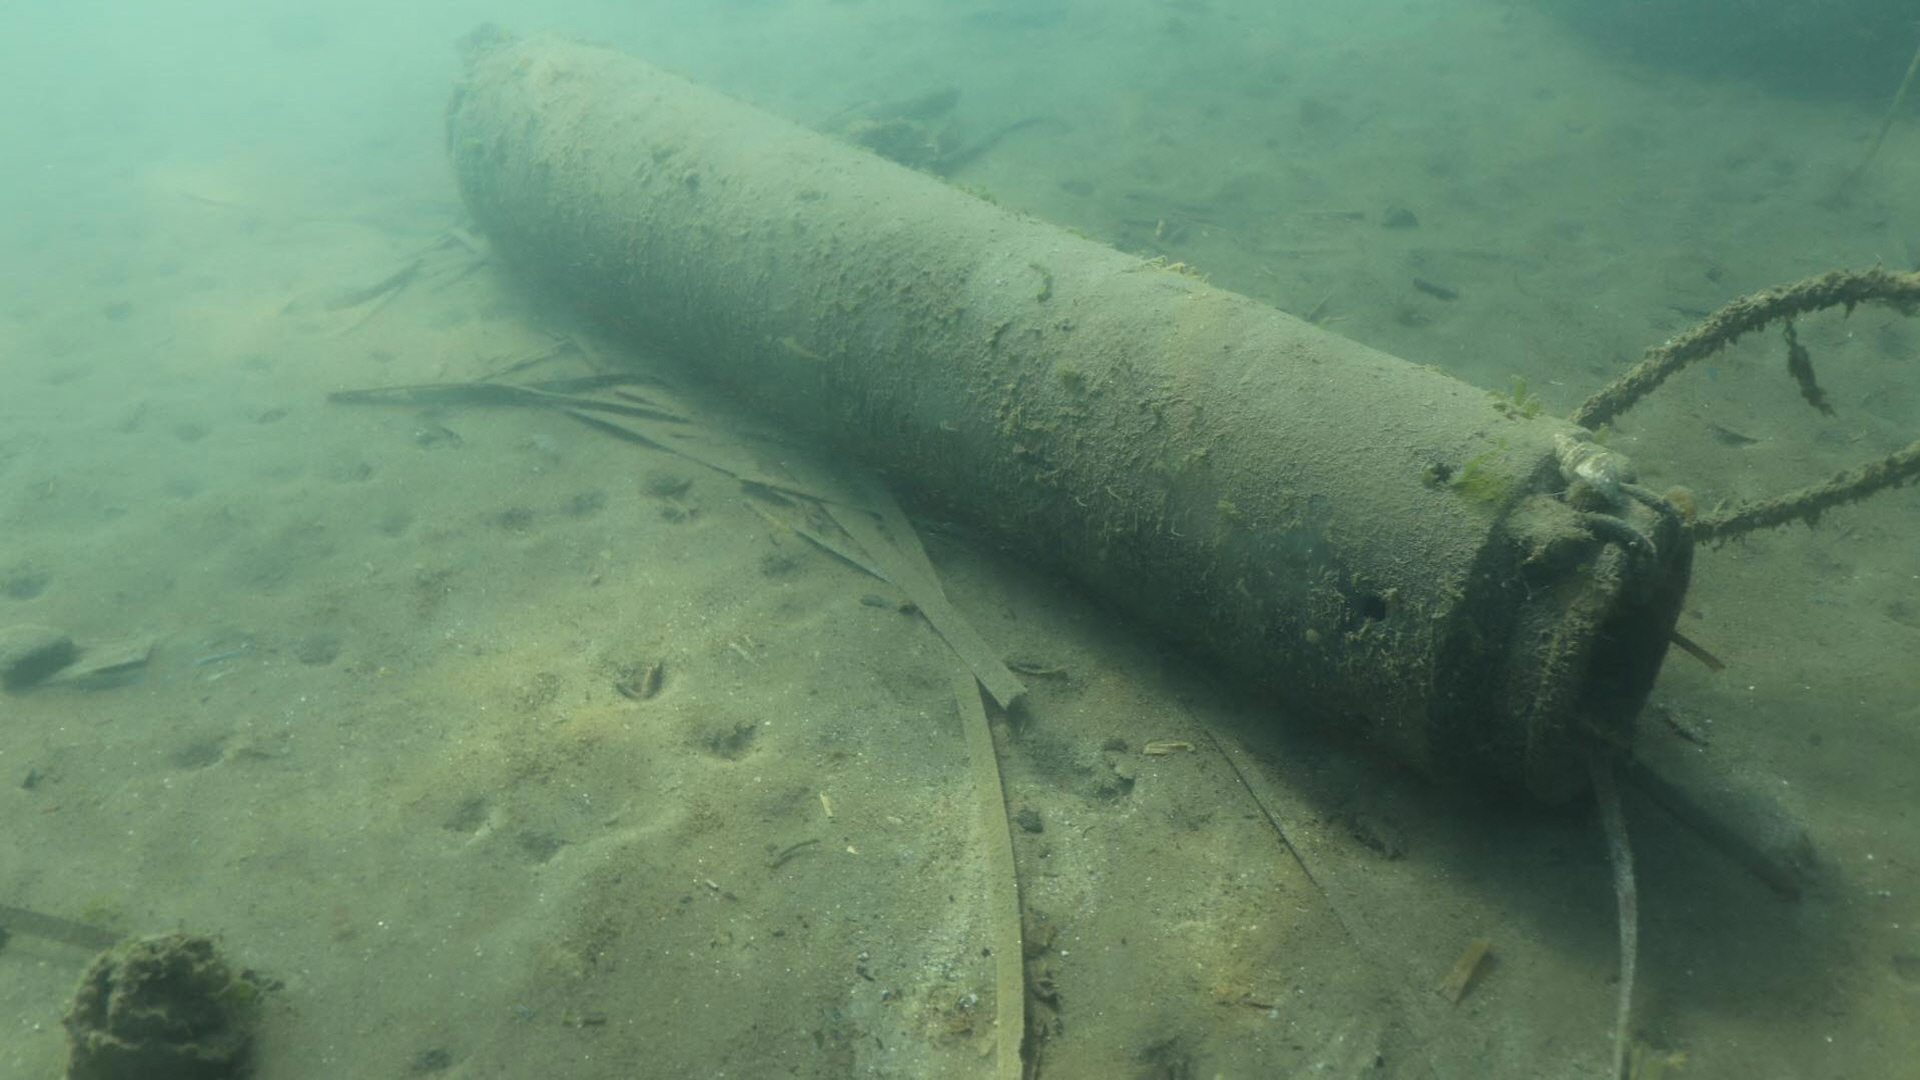eel fish trap: (440, 29, 1695, 806)
rope: (1573, 264, 1920, 535)
